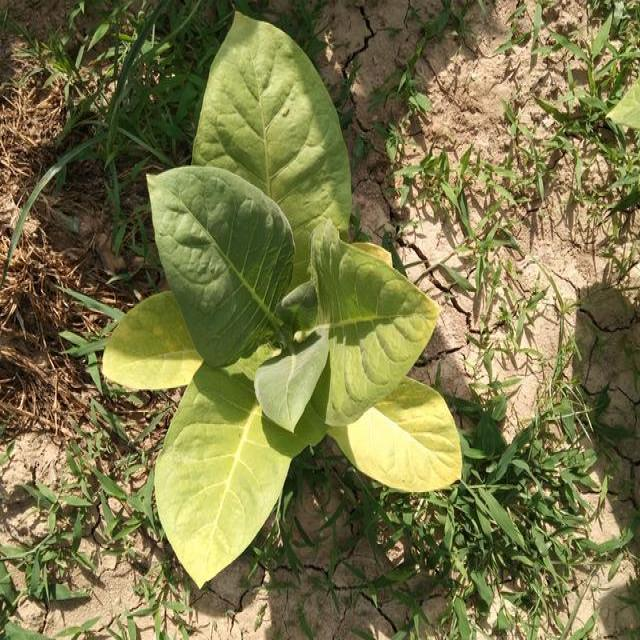crop: (103, 13, 462, 595)
